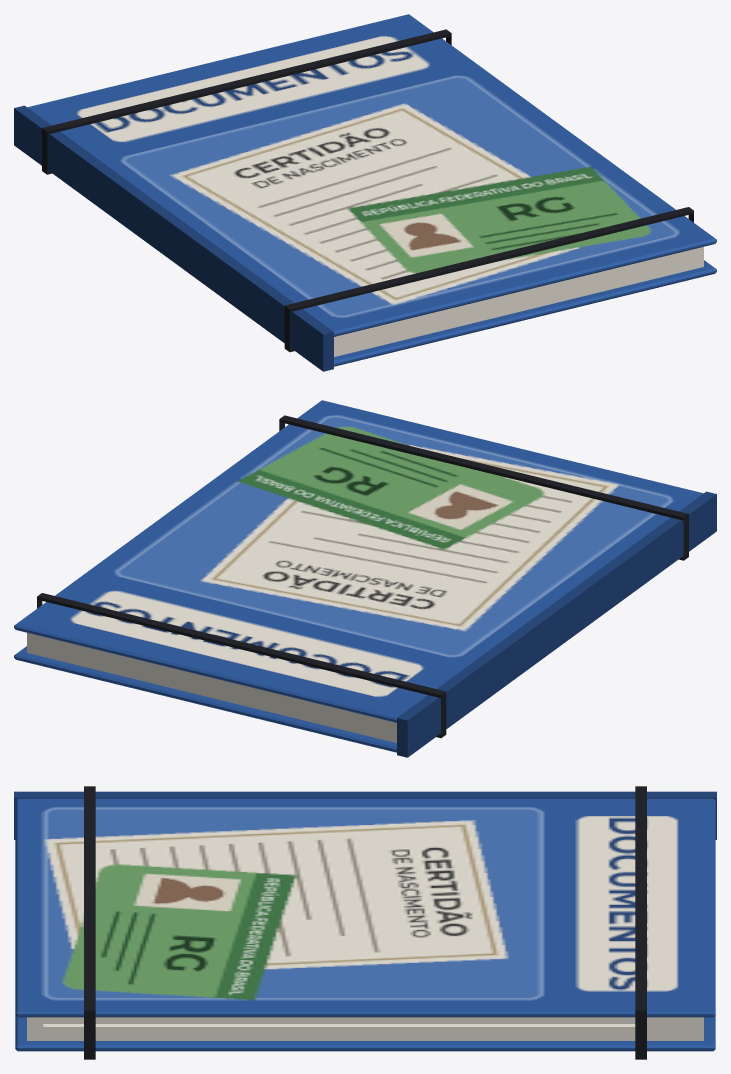
The model's file is Item_Documentos.fbx.
The picture shows the model from 3 angles, top to bottom: view 1: azimuth 30°, elevation 25°; view 2: azimuth 150°, elevation 25°; view 3: azimuth 270°, elevation 25°; orthographic projection. The views are drawn at different scales.
Visible parts, largest first — view 1: Item_Documentos; view 2: Item_Documentos; view 3: Item_Documentos.
Part boxes in pixels (left/top/right/bottom): Item_Documentos: left=14, top=14, right=716, bottom=371; Item_Documentos: left=14, top=400, right=716, bottom=757; Item_Documentos: left=14, top=786, right=716, bottom=1059.
Size of the model in its own units: 0.2272 by 0.0231 by 0.301.
Materials: 1 (1 with a texture image).
